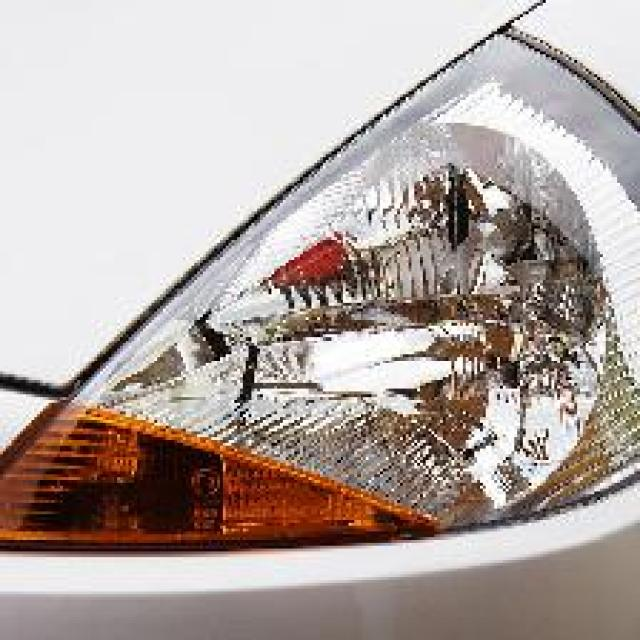head_lamp_minor: (160, 86, 637, 529)
